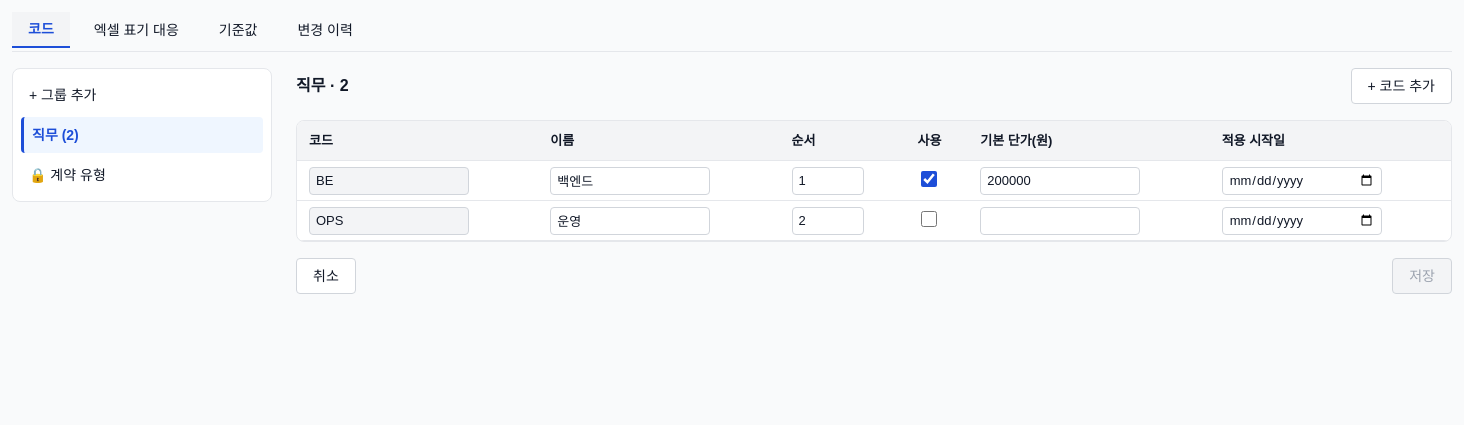
Test: 저장 후 조회 실패의 다시 시도는 PUT을 반복하지 않는다
The width and height of the screenshot is (1464, 425).
Replace the text in the field named "이름 1" with "성공" at [630, 180], box [550,166,710,194]
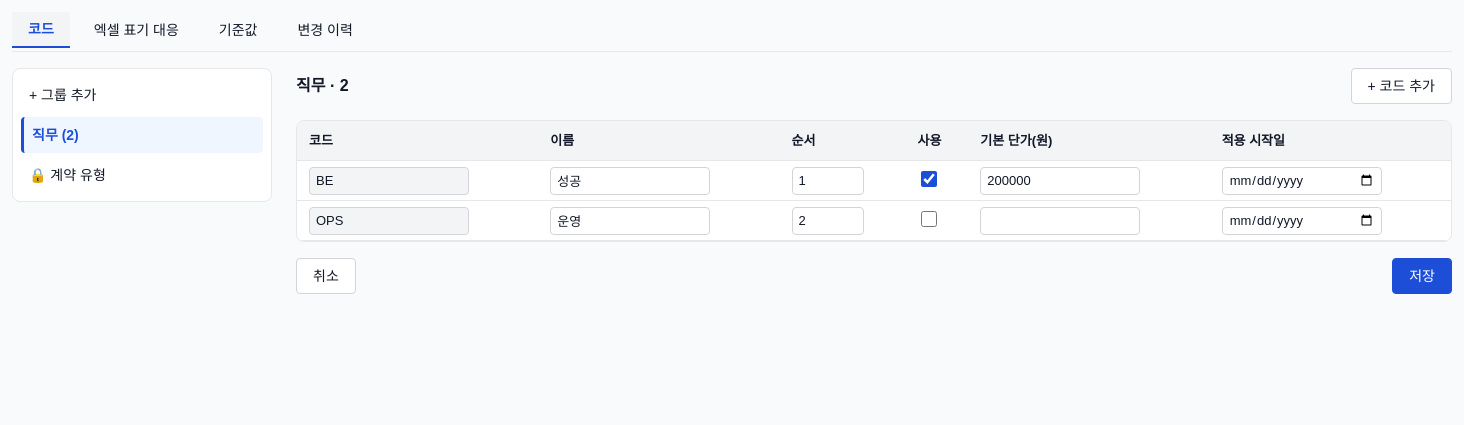
Click the button "저장" at [1422, 276], box [1392,258,1452,294]
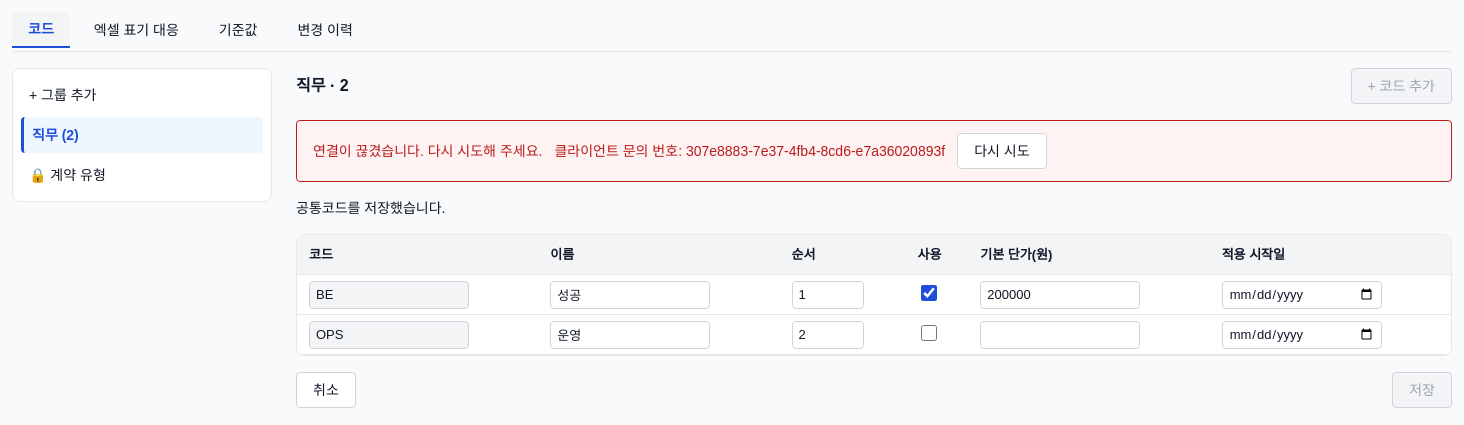
Check: the text "연결이 끊겼습니다. 다시 시도해 주세요." is shown, box [313,141,542,161]
Click the button "다시 시도" at [1002, 151], box [957,133,1046,169]
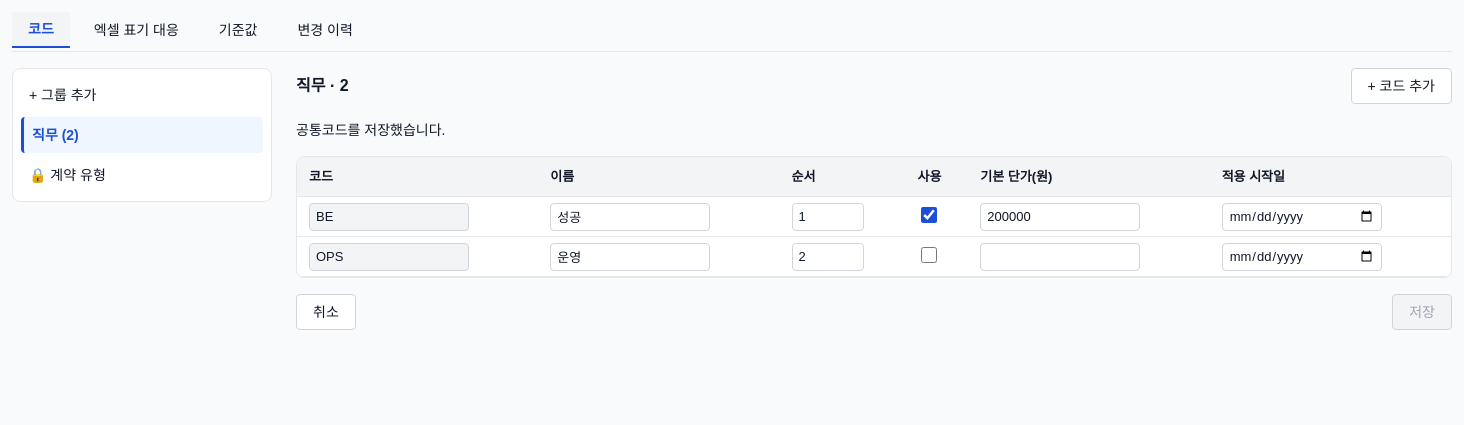
Check: the text "연결이 끊겼습니다" is gone
